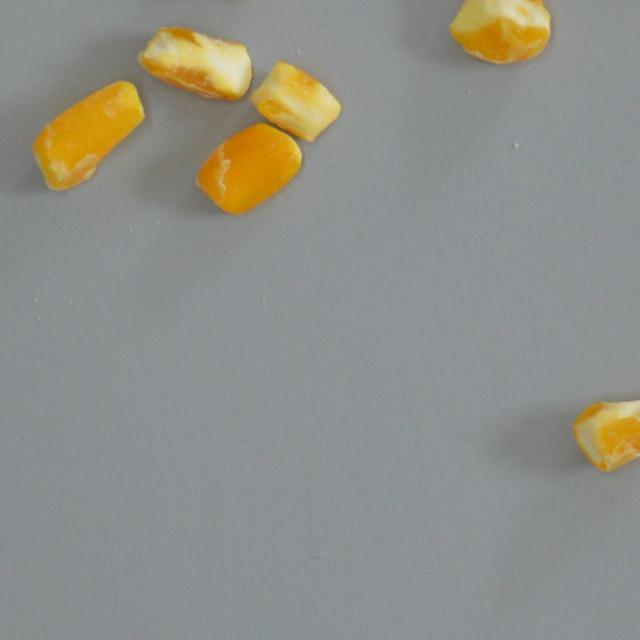estandar: (248, 57, 342, 146)
pelicula: (28, 78, 146, 202), (196, 118, 302, 223), (136, 23, 254, 101), (445, 0, 553, 68), (568, 382, 640, 474)
